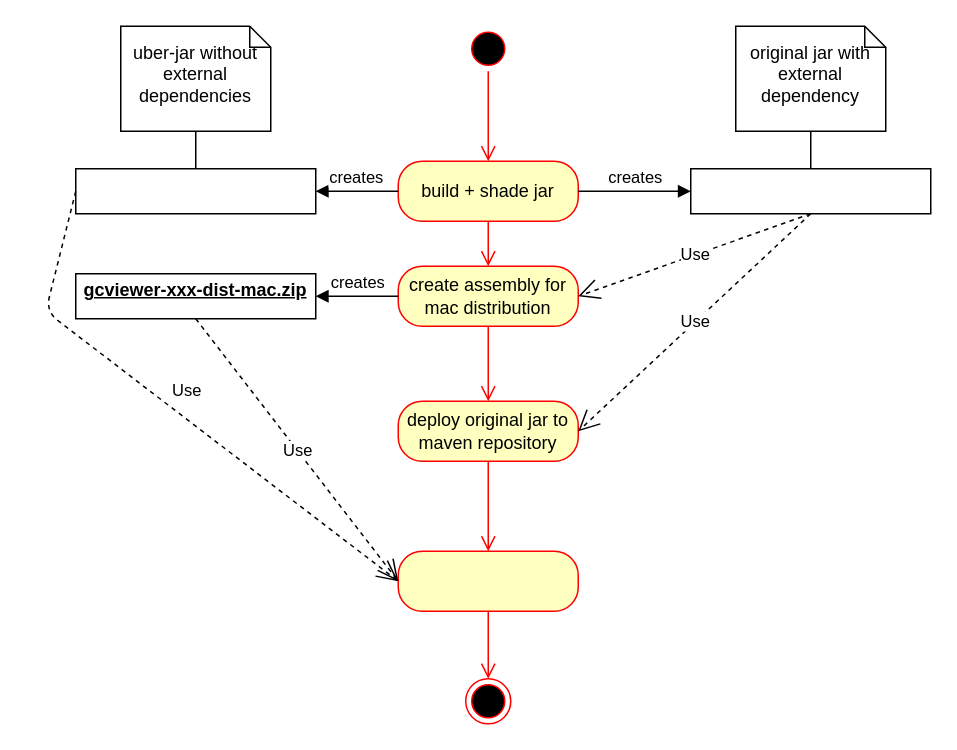
Image size: 957x750. Some labels were removed from this diagram. Here are the shapes that lost their labels. From the top down, the centre of each, then its label:
(x=195, y=190): uber-gcviewer-xxx.jar
(x=810, y=190): gcviewer-xxx.jar
(x=487, y=580): deploy to SourceForge
